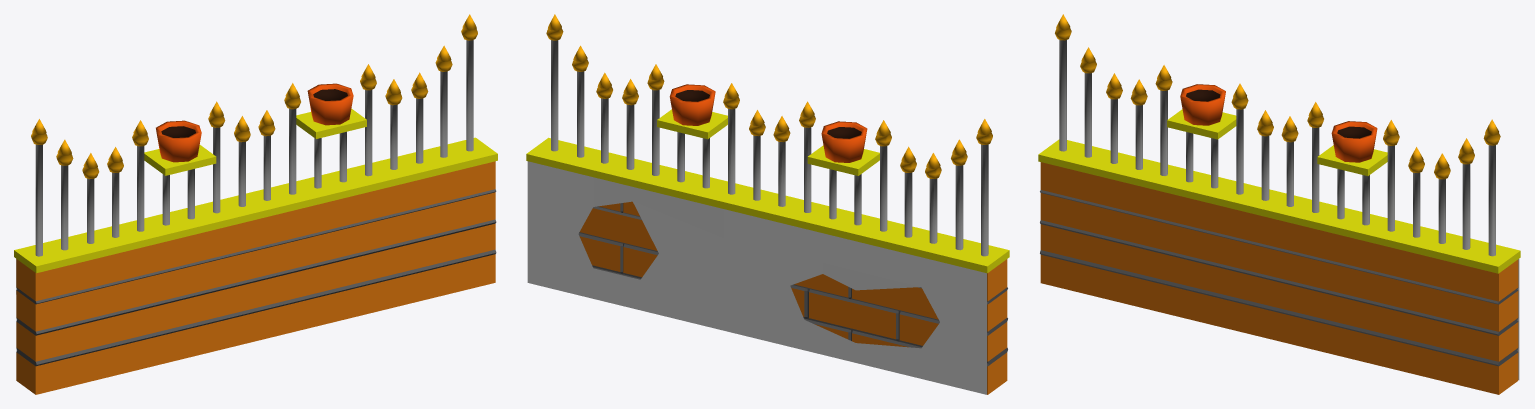
The model's file is valla01.fbx.
The picture shows the model from 3 angles, left to right: view 1: azimuth 30°, elevation 25°; view 2: azimuth 150°, elevation 25°; view 3: azimuth 330°, elevation 25°; orthographic projection.
Visible parts, largest first — view 1: Cube.003; view 2: Cube.003, Plane; view 3: Cube.003.
Part boxes in pixels (left/top/right/bottom): Cube.003: left=14, top=14, right=497, bottom=394; Cube.003: left=526, top=14, right=1009, bottom=394; Plane: left=527, top=161, right=986, bottom=394; Cube.003: left=1038, top=14, right=1520, bottom=394.
Bounding box in the file's own units: 2737 × 1509 × 245.
